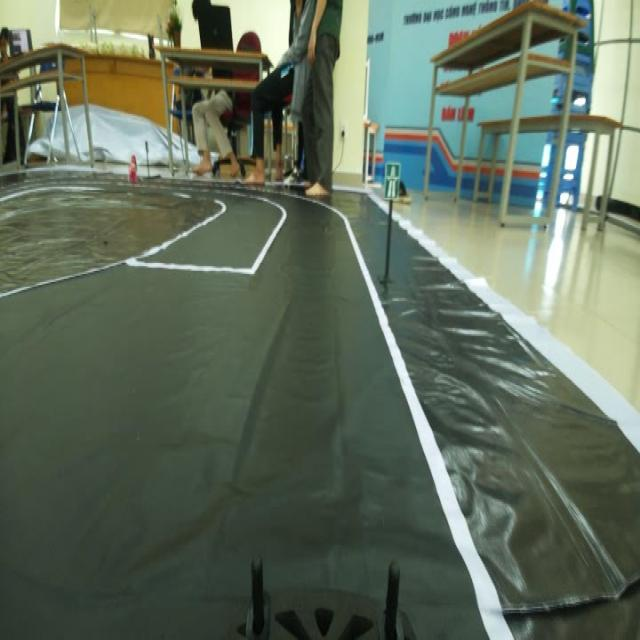highway_entry: (383, 153, 403, 213)
